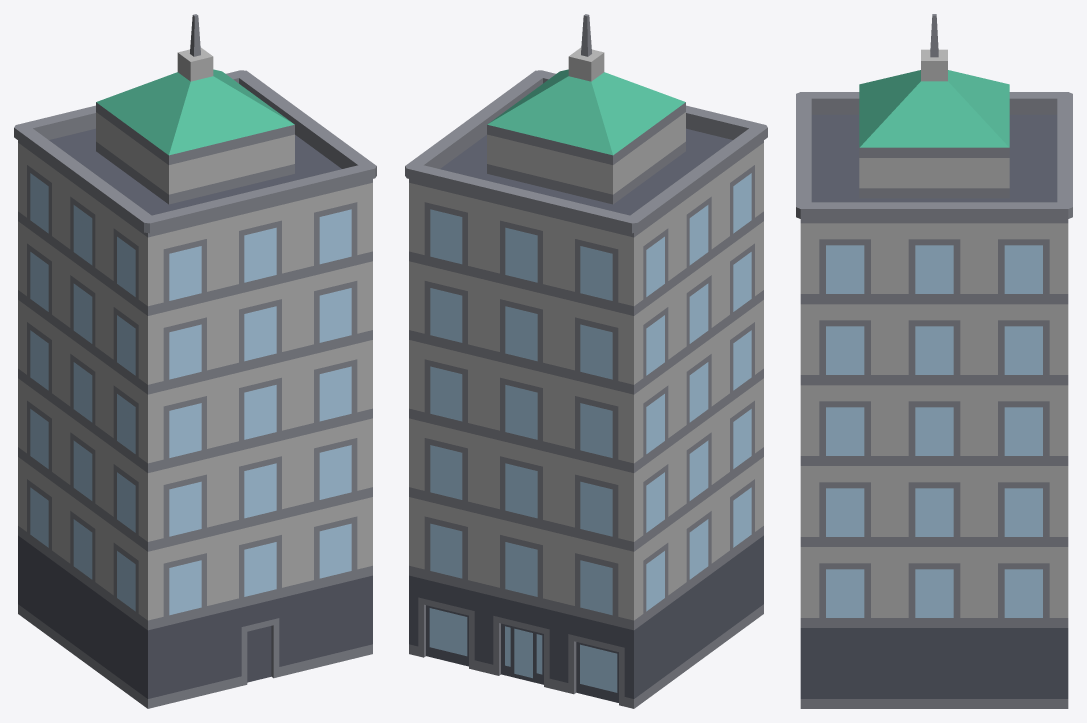
File: residential-C3.glb
3 renders of one model, left to right at view 1: azimuth 30°, elevation 25°; view 2: azimuth 150°, elevation 25°; view 3: azimuth 270°, elevation 25°, orthographic. The views are drawn at different scales.
Parts seen in each view (by area): view 1: skyscraperE; view 2: skyscraperE; view 3: skyscraperE.
Boxes of the visible parts, x1=… form: skyscraperE: x1=14, y1=14, x2=376, y2=708; skyscraperE: x1=405, y1=14, x2=767, y2=708; skyscraperE: x1=796, y1=14, x2=1072, y2=708.
Size of the model in its own units: 1.24 by 3.15 by 1.24.
